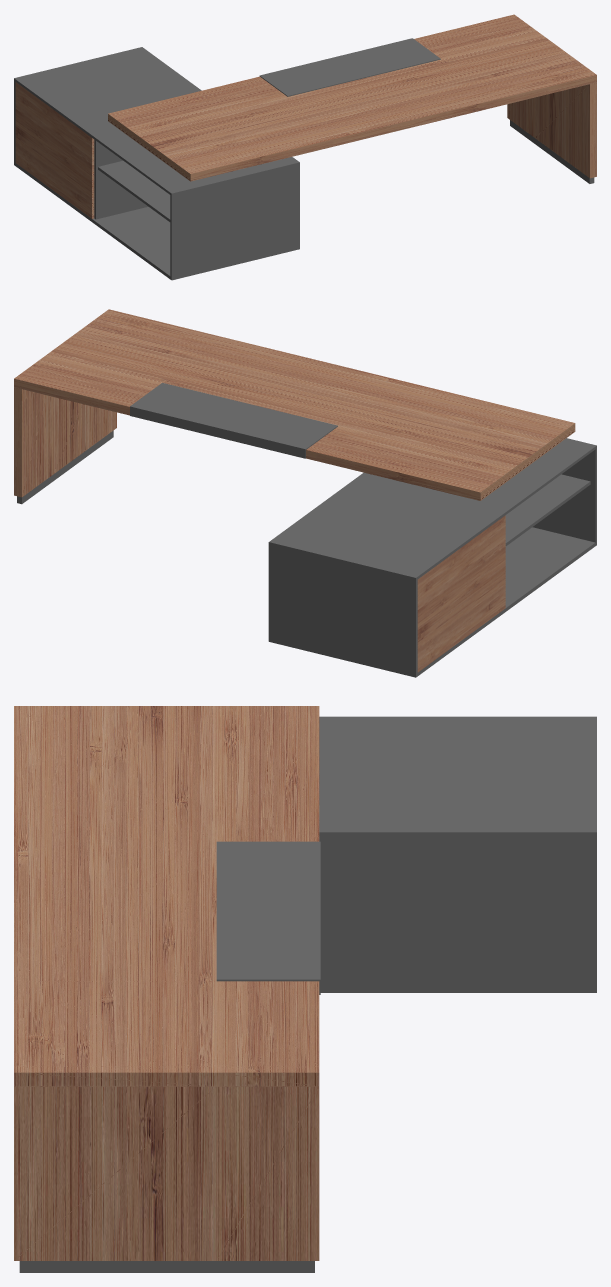
File: table.gltf
3 views of the same model, one above another, from view 1: azimuth 30°, elevation 25°; view 2: azimuth 150°, elevation 25°; view 3: azimuth 270°, elevation 25° (orthographic). The views are drawn at different scales.
Parts seen in each view (by area): view 1: Cube.002; view 2: Cube.002; view 3: Cube.002.
Part boxes in pixels (x1,y1,x2,y2): Cube.002: (14, 14, 596, 280); Cube.002: (14, 309, 596, 677); Cube.002: (14, 706, 596, 1272).
Size of the model in its own units: 3.81 by 0.9385 by 2.44.
2 materials, 1 textured.
